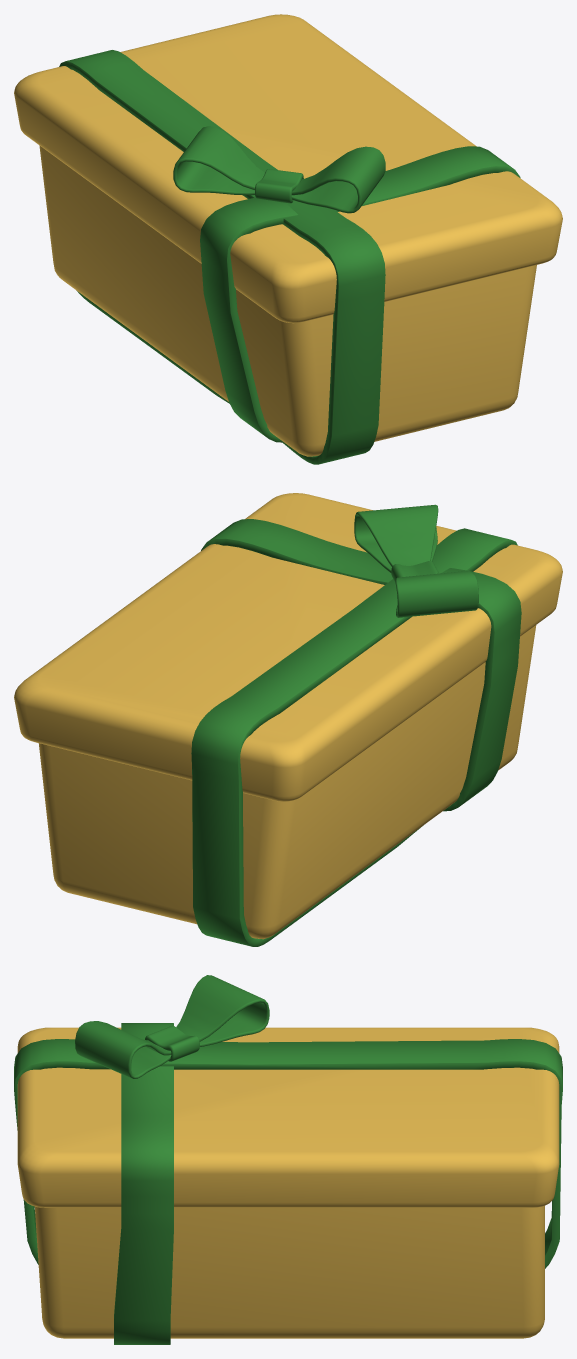
File: Gift02.fbx
The picture shows the model from 3 angles, top to bottom: view 1: azimuth 30°, elevation 25°; view 2: azimuth 150°, elevation 25°; view 3: azimuth 270°, elevation 25°; orthographic projection. The views are drawn at different scales.
Parts seen in each view (by area): view 1: Gift 02; view 2: Gift 02; view 3: Gift 02.
Part boxes in pixels (<box>): Gift 02: <box>14,14,562,464</box>; Gift 02: <box>14,493,562,946</box>; Gift 02: <box>14,975,562,1344</box>.
Bounding box in the file's own units: 229 × 196 × 372.
